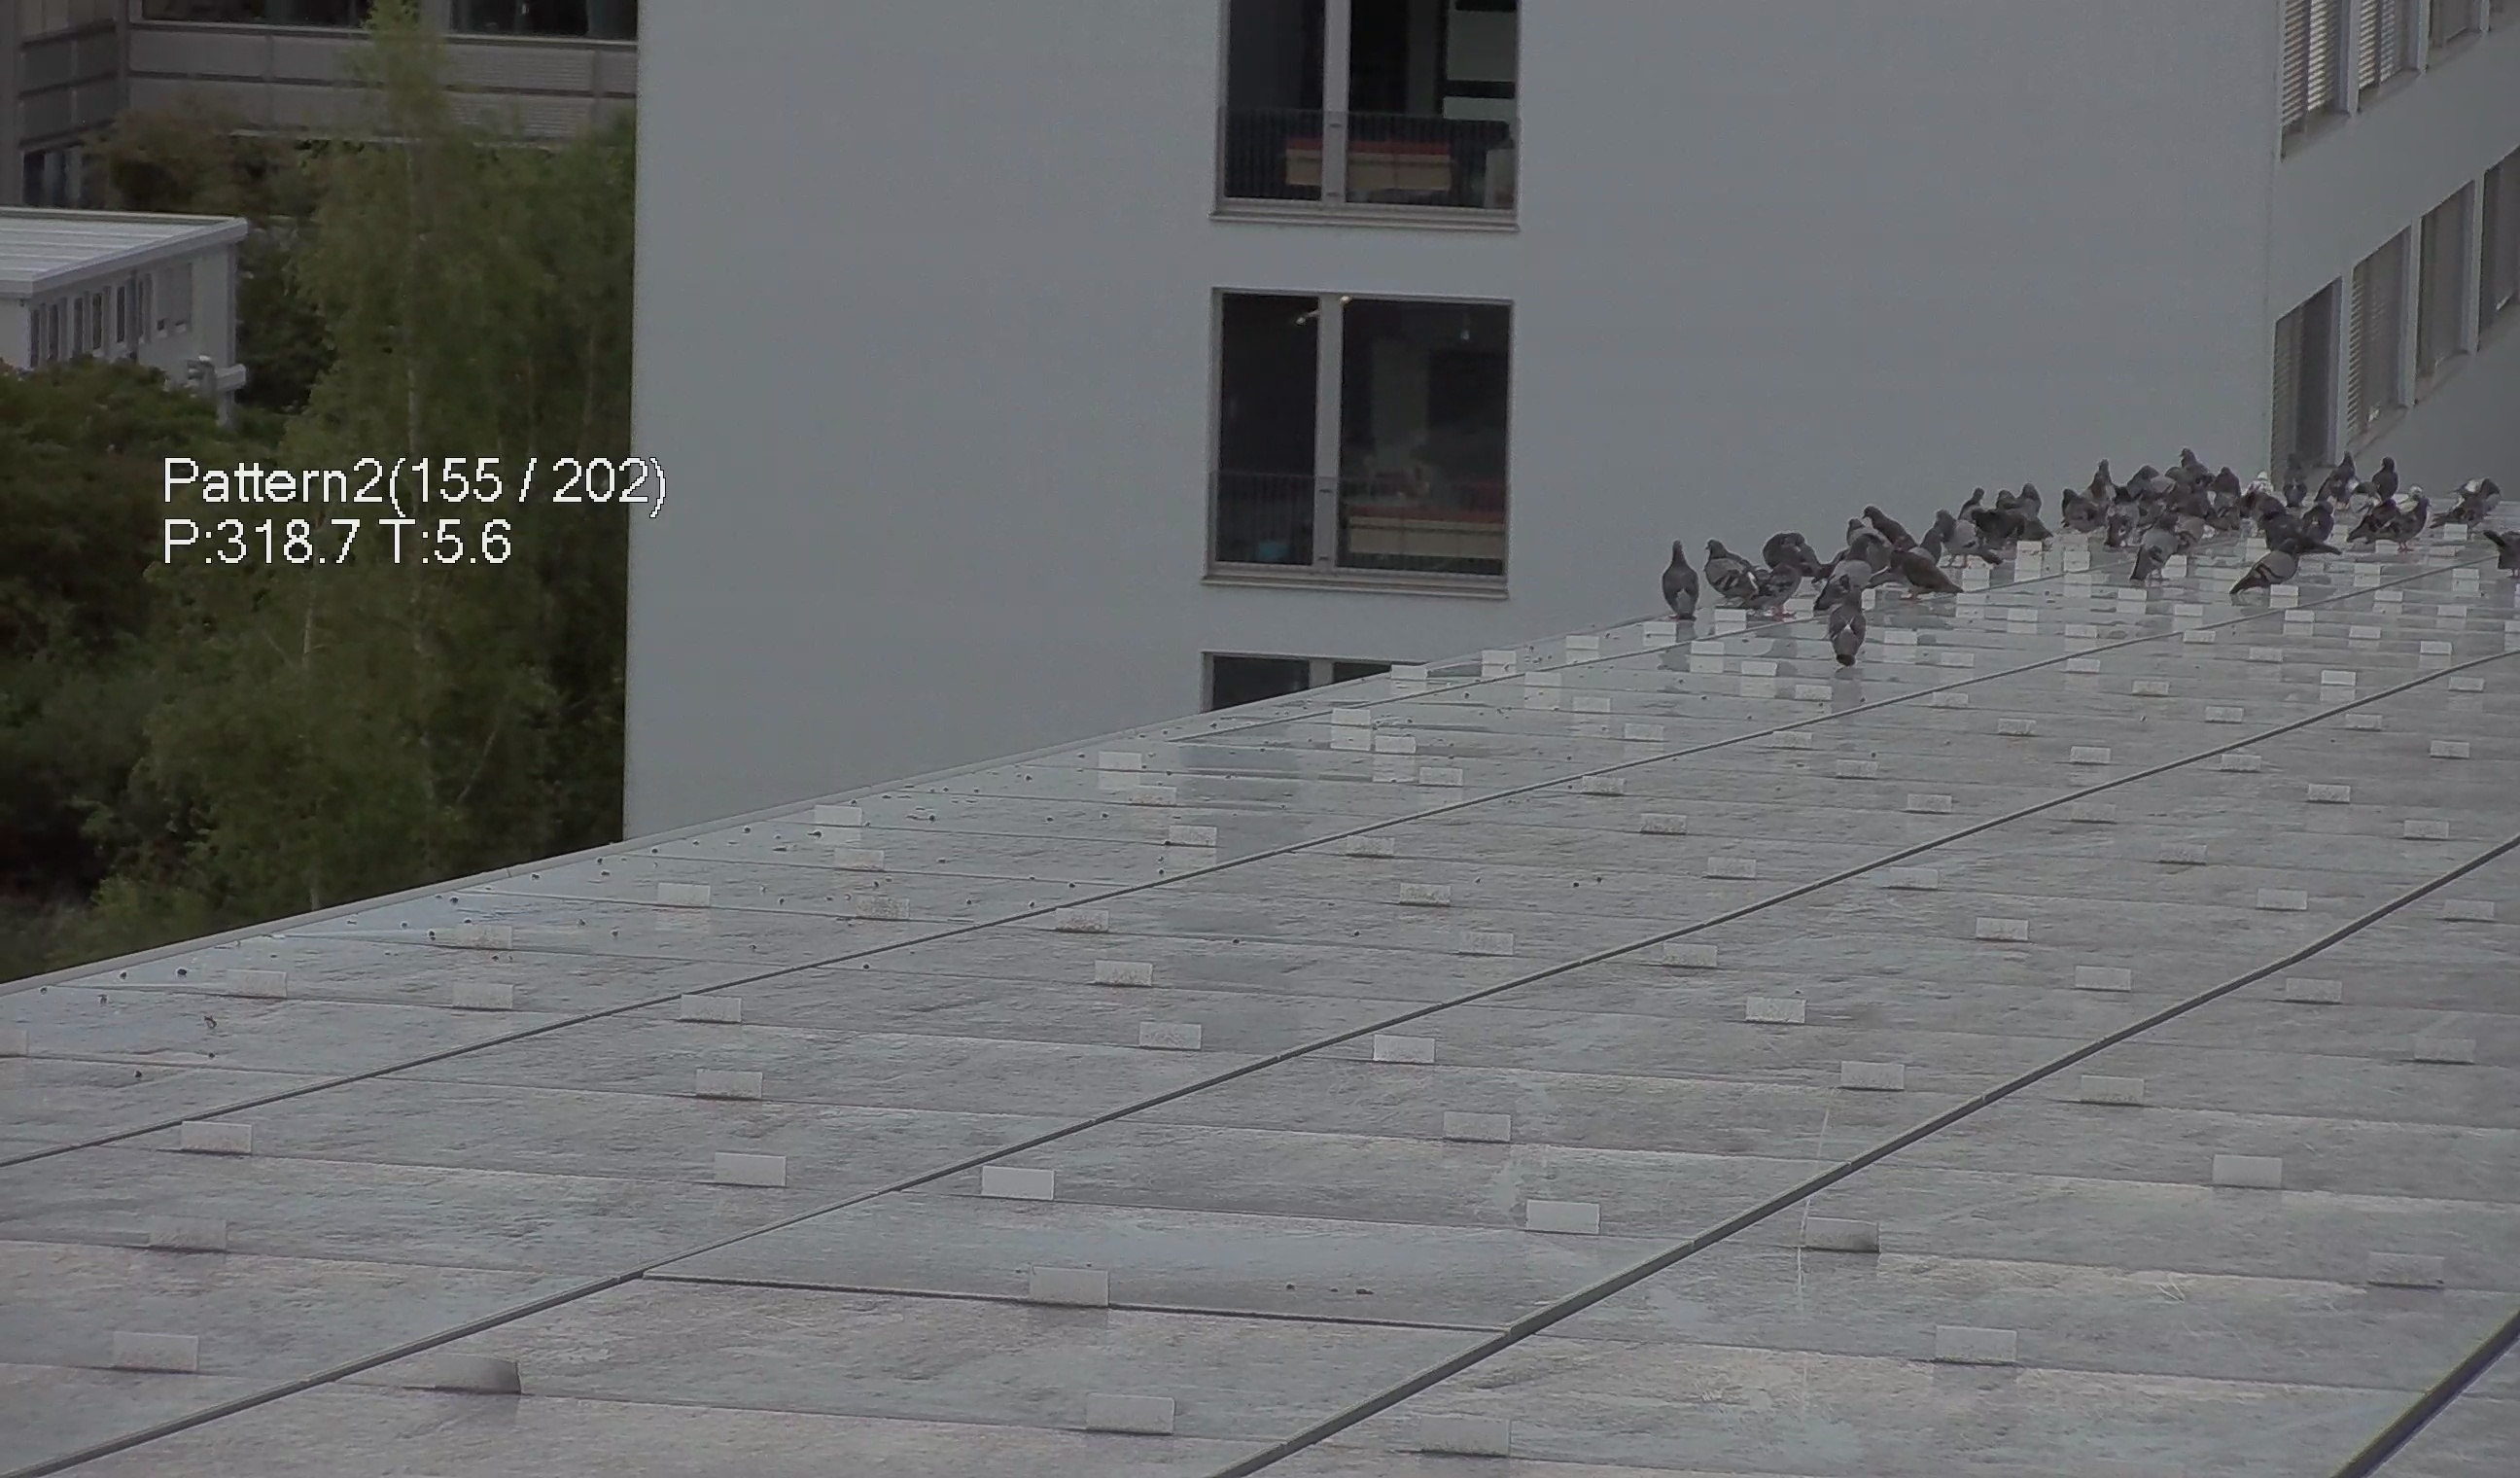Pigeon: (1854, 500, 1971, 598), (1651, 521, 1715, 642), (1820, 568, 1883, 669), (2365, 487, 2441, 551), (1695, 537, 1760, 605), (1818, 544, 1875, 616), (1753, 549, 1806, 616), (1940, 503, 1992, 568), (2131, 512, 2174, 588), (2444, 472, 2499, 530), (1766, 519, 1822, 574), (2242, 544, 2304, 593), (2281, 442, 2314, 514), (2480, 523, 2520, 574), (2321, 450, 2360, 498), (2376, 452, 2402, 507), (2091, 457, 2114, 491), (2182, 445, 2202, 470)
